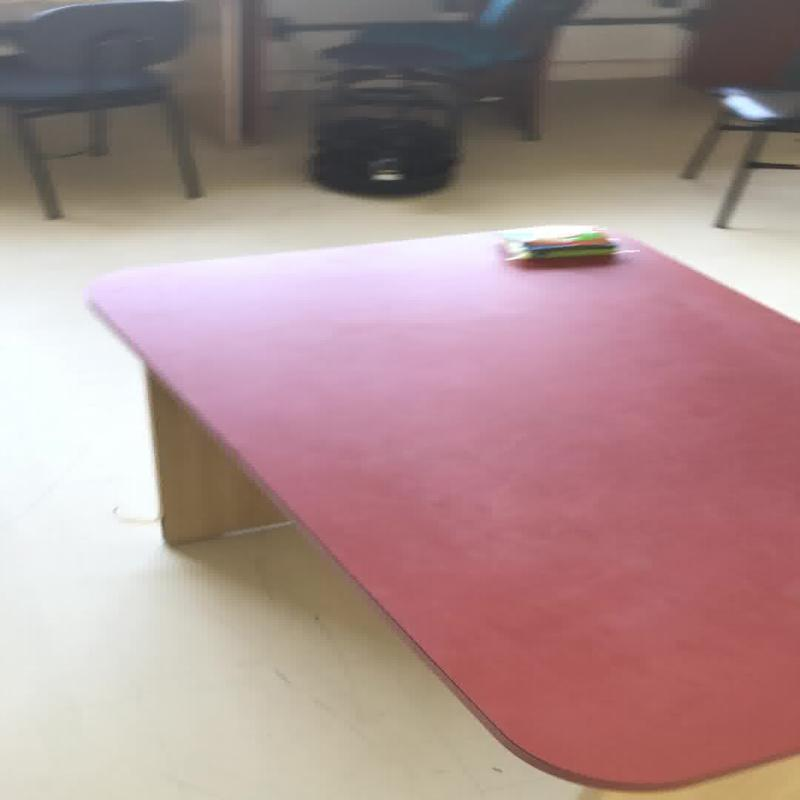sponge: (86, 222, 798, 788), (499, 224, 636, 261), (522, 231, 607, 248)
